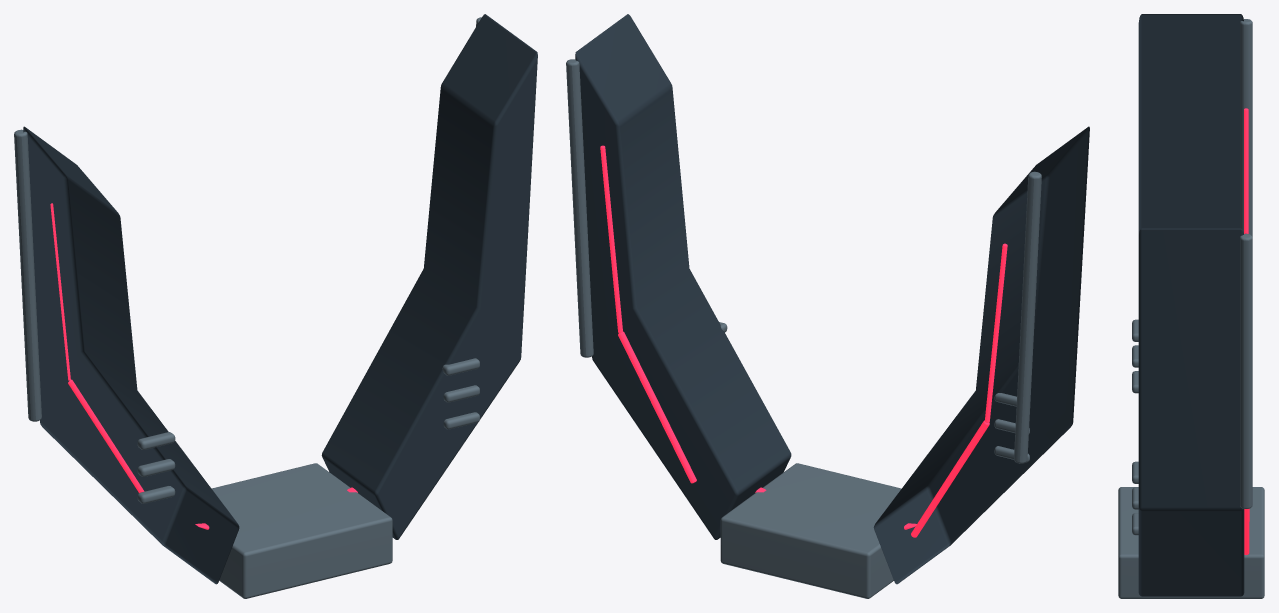
The model's file is watcher_crown.glb.
3 views of the same model, side by side, from view 1: azimuth 30°, elevation 25°; view 2: azimuth 150°, elevation 25°; view 3: azimuth 270°, elevation 25° (orthographic). The views are drawn at different scales.
Parts seen in each view (by area): view 1: Swept split crown.001, Swept split crown, Neck saddle, Fork outer machined spine, Fork ruby inset; view 2: Swept split crown.001, Swept split crown, Neck saddle, Fork outer machined spine.001, Fork outer machined spine, Fork ruby inset.001, Fork upper channel.001, Fork upper channel, Fork ruby inset; view 3: Swept split crown.001, Swept split crown, Neck saddle, Fork outer machined spine.001, Fork outer machined spine, Fork upper channel, Fork ruby inset.001.
Part boxes in pixels (x1,y1,x2,y2): Swept split crown.001: [321, 14, 537, 539]; Swept split crown: [23, 126, 239, 584]; Neck saddle: [211, 463, 392, 598]; Fork outer machined spine: [14, 129, 41, 421]; Fork ruby inset: [68, 379, 144, 492]; Swept split crown.001: [575, 14, 791, 539]; Swept split crown: [873, 126, 1089, 584]; Neck saddle: [720, 463, 901, 598]; Fork outer machined spine.001: [566, 59, 593, 357]; Fork outer machined spine: [1014, 171, 1041, 463]; Fork ruby inset.001: [618, 331, 696, 483]; Fork upper channel.001: [600, 145, 622, 333]; Fork upper channel: [985, 243, 1007, 422]; Fork ruby inset: [911, 420, 989, 537]; Swept split crown.001: [1138, 228, 1244, 596]; Swept split crown: [1138, 14, 1243, 234]; Neck saddle: [1118, 487, 1264, 598]; Fork outer machined spine.001: [1240, 233, 1252, 508]; Fork outer machined spine: [1240, 19, 1252, 236]; Fork upper channel: [1244, 108, 1248, 233]; Fork ruby inset.001: [1244, 508, 1249, 554].
Size of the model in its own units: 5.53 by 5.19 by 1.55.
